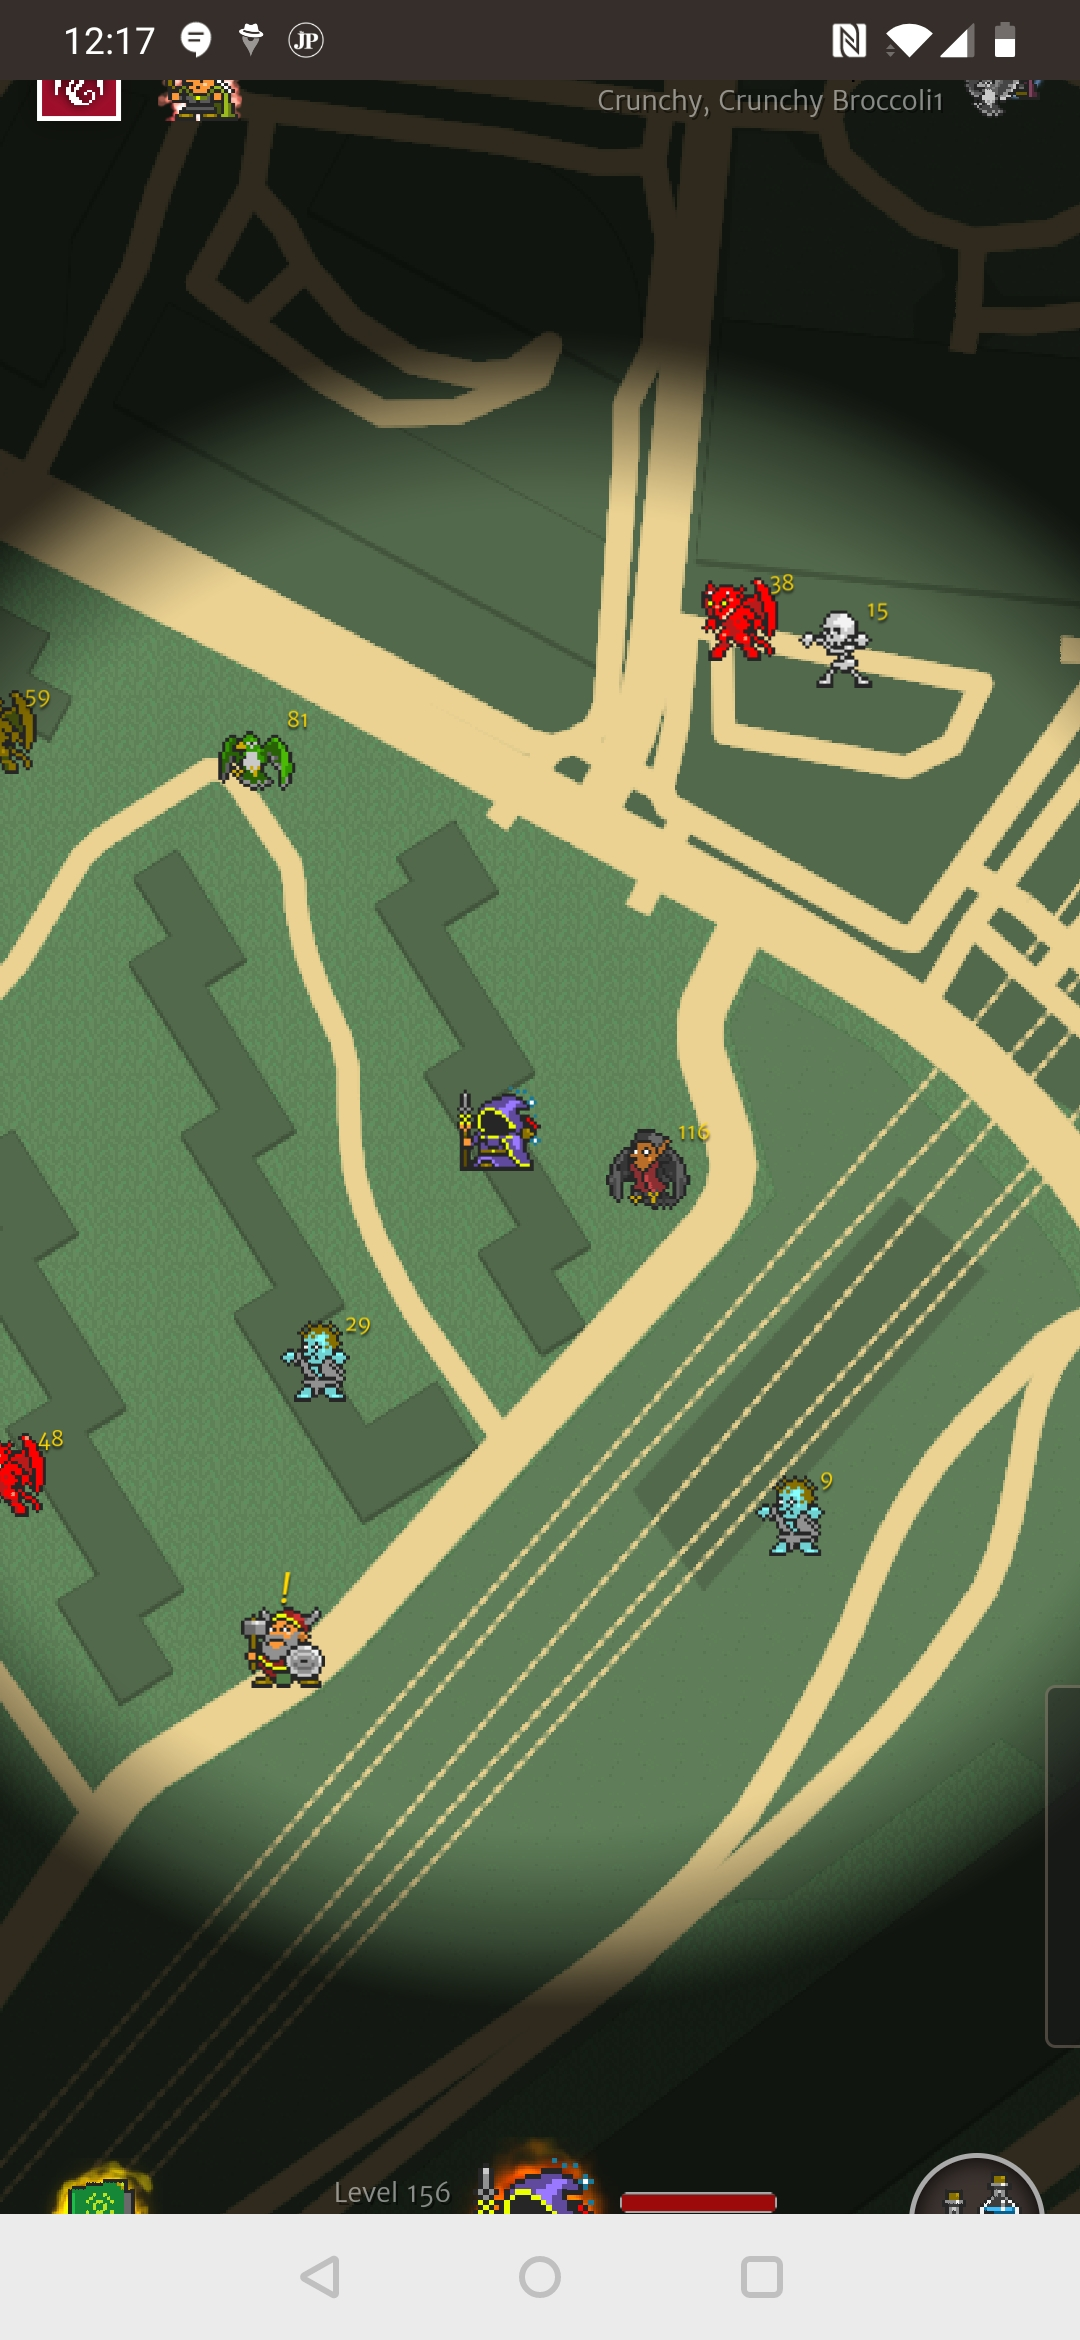monster: (719, 1465, 843, 1596), (205, 692, 319, 816), (688, 554, 805, 671), (595, 1113, 712, 1223), (270, 1309, 384, 1409), (795, 592, 898, 696)
player: (436, 1089, 550, 1185)
